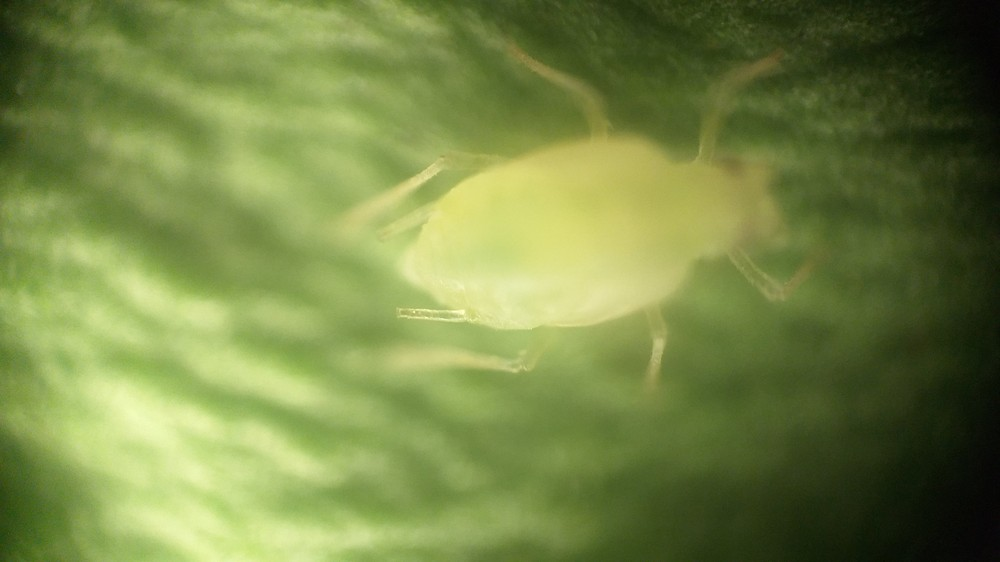Pulgon: (334, 37, 856, 404)
